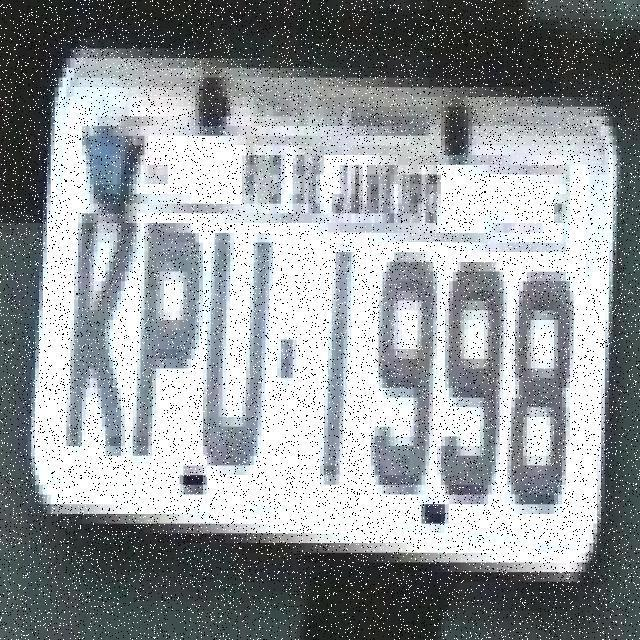LicensePlate: (24, 0, 629, 604)
